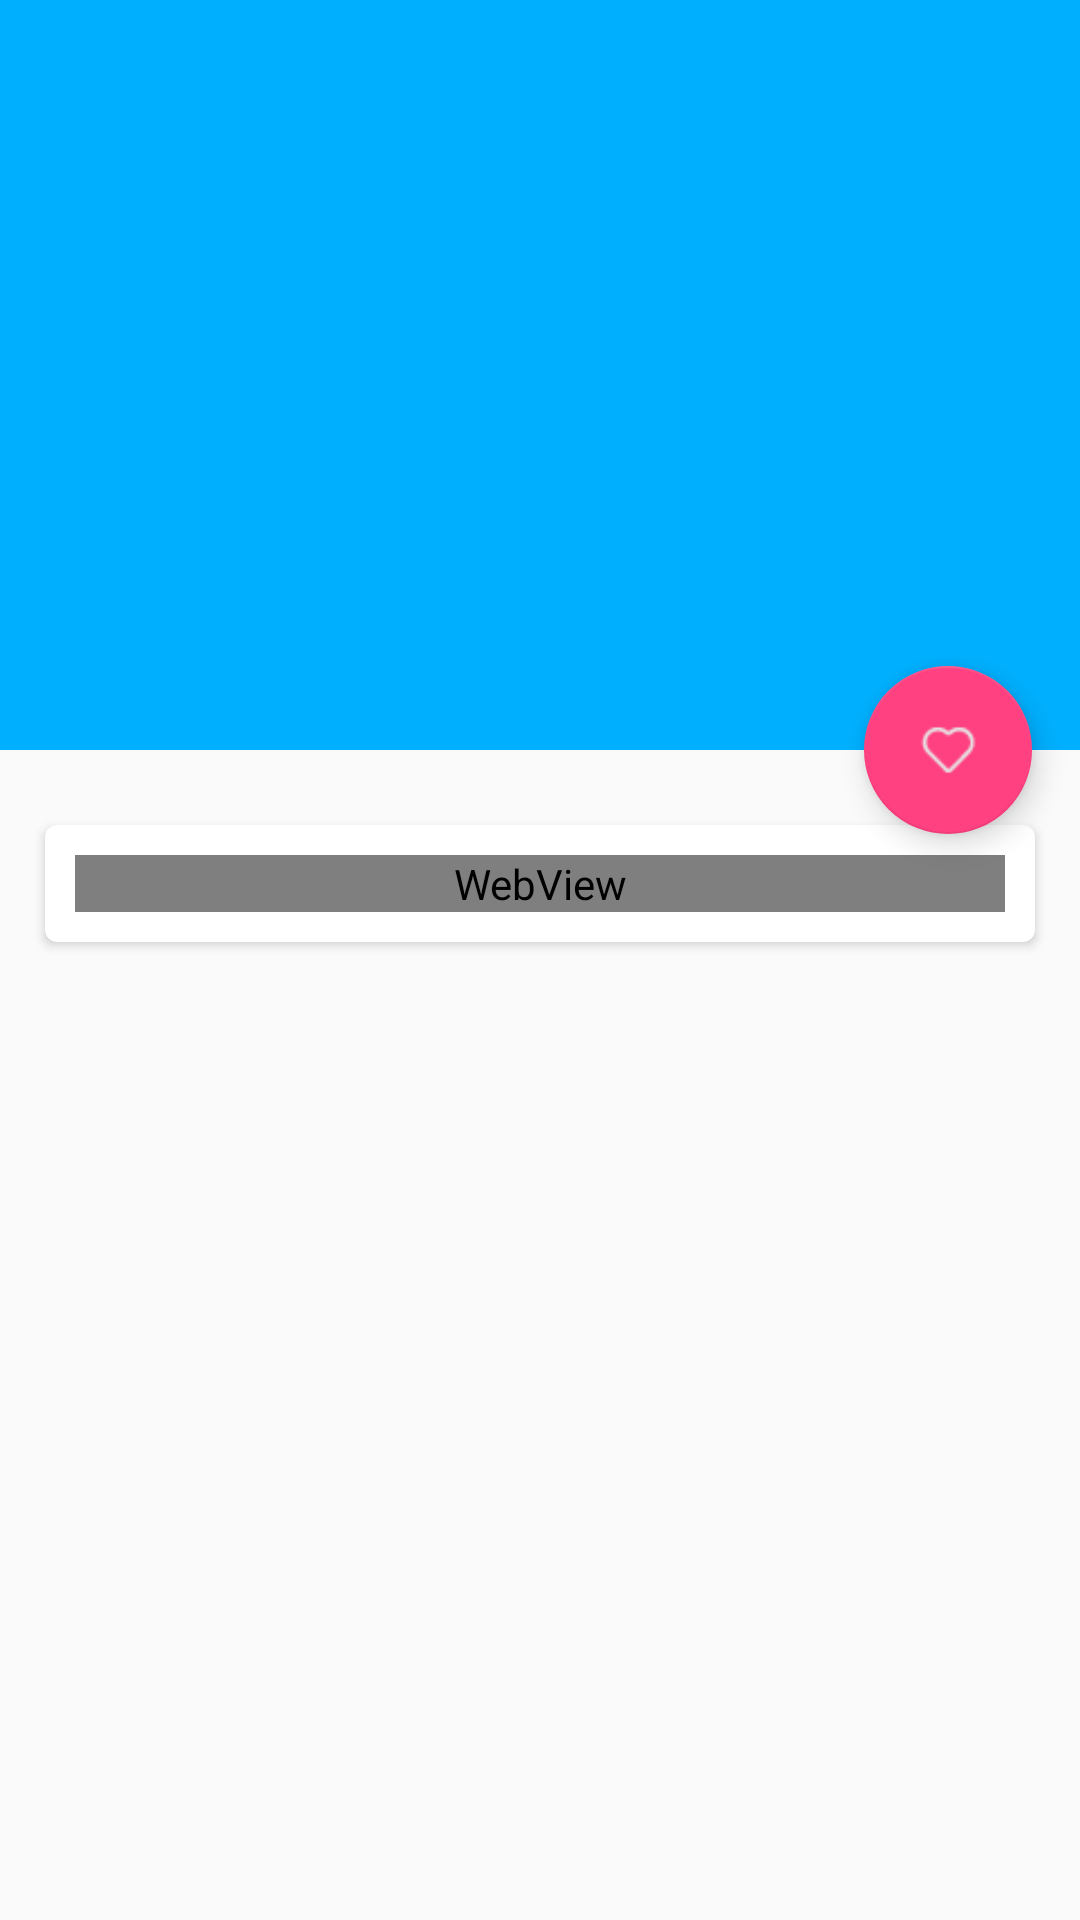

Named icons in this screenshot (1080*1920) and their centers, (x,y):
collect: (948,750)
